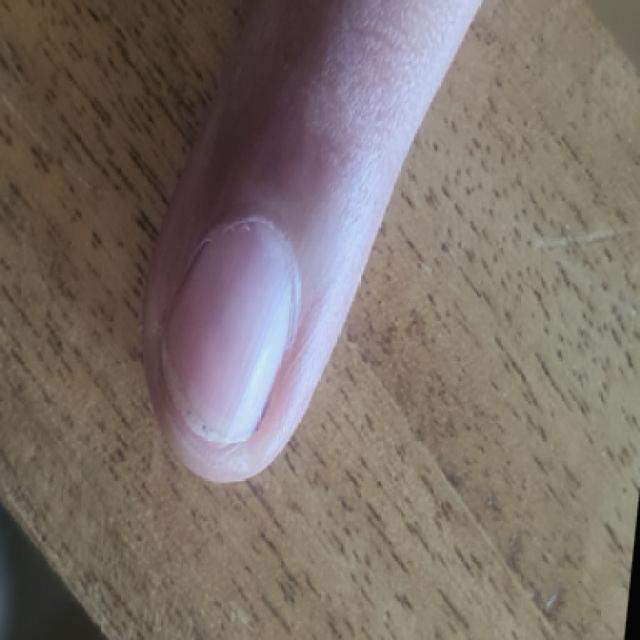Nail: (159, 226, 296, 441)
